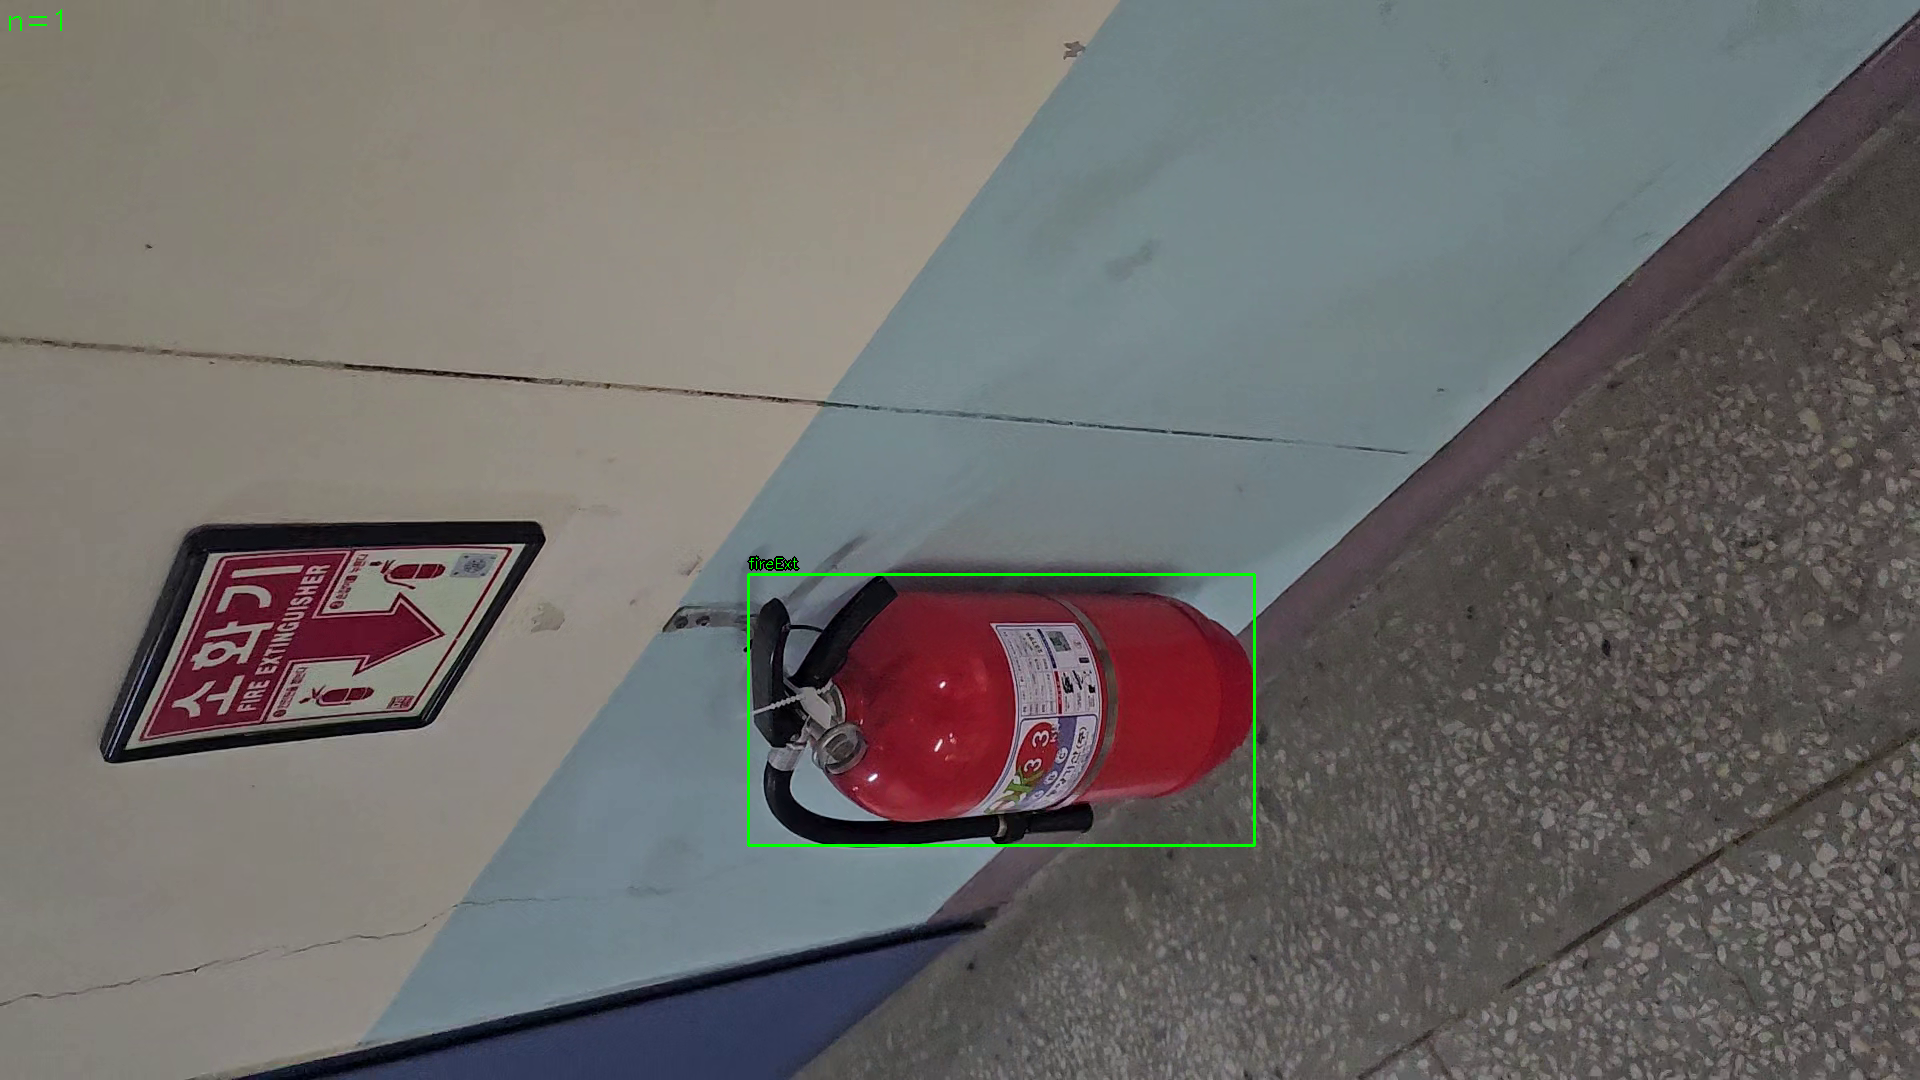lane: (748, 574, 1255, 847)
